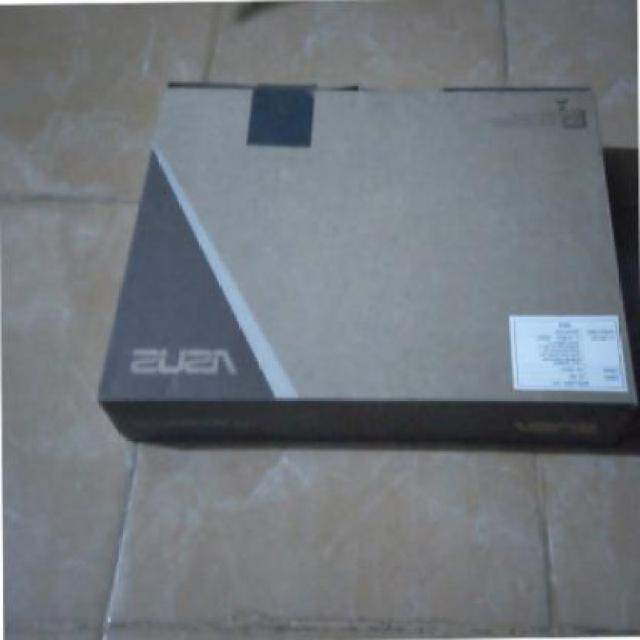cardboxes: (102, 82, 633, 440)
